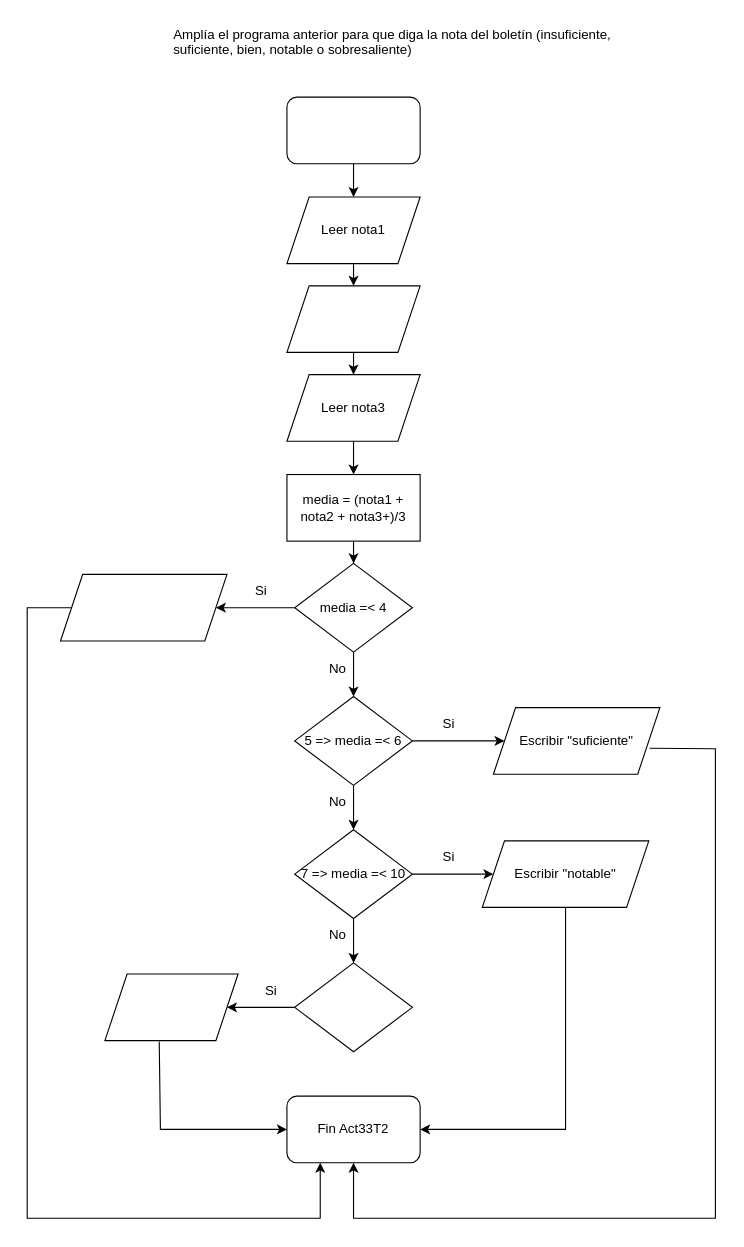
Some shapes in this 744 by 1247 pixel diagram are drawn without their labels. Each missing label, with the box of its shape:
Escribir "insuficiente": (59, 573, 227, 641)
Escribir "sobresaliente": (104, 973, 238, 1041)
Inicio Act33T2: (286, 96, 420, 164)
Leer nota2: (286, 285, 420, 352)
media < 10: (294, 962, 412, 1052)
